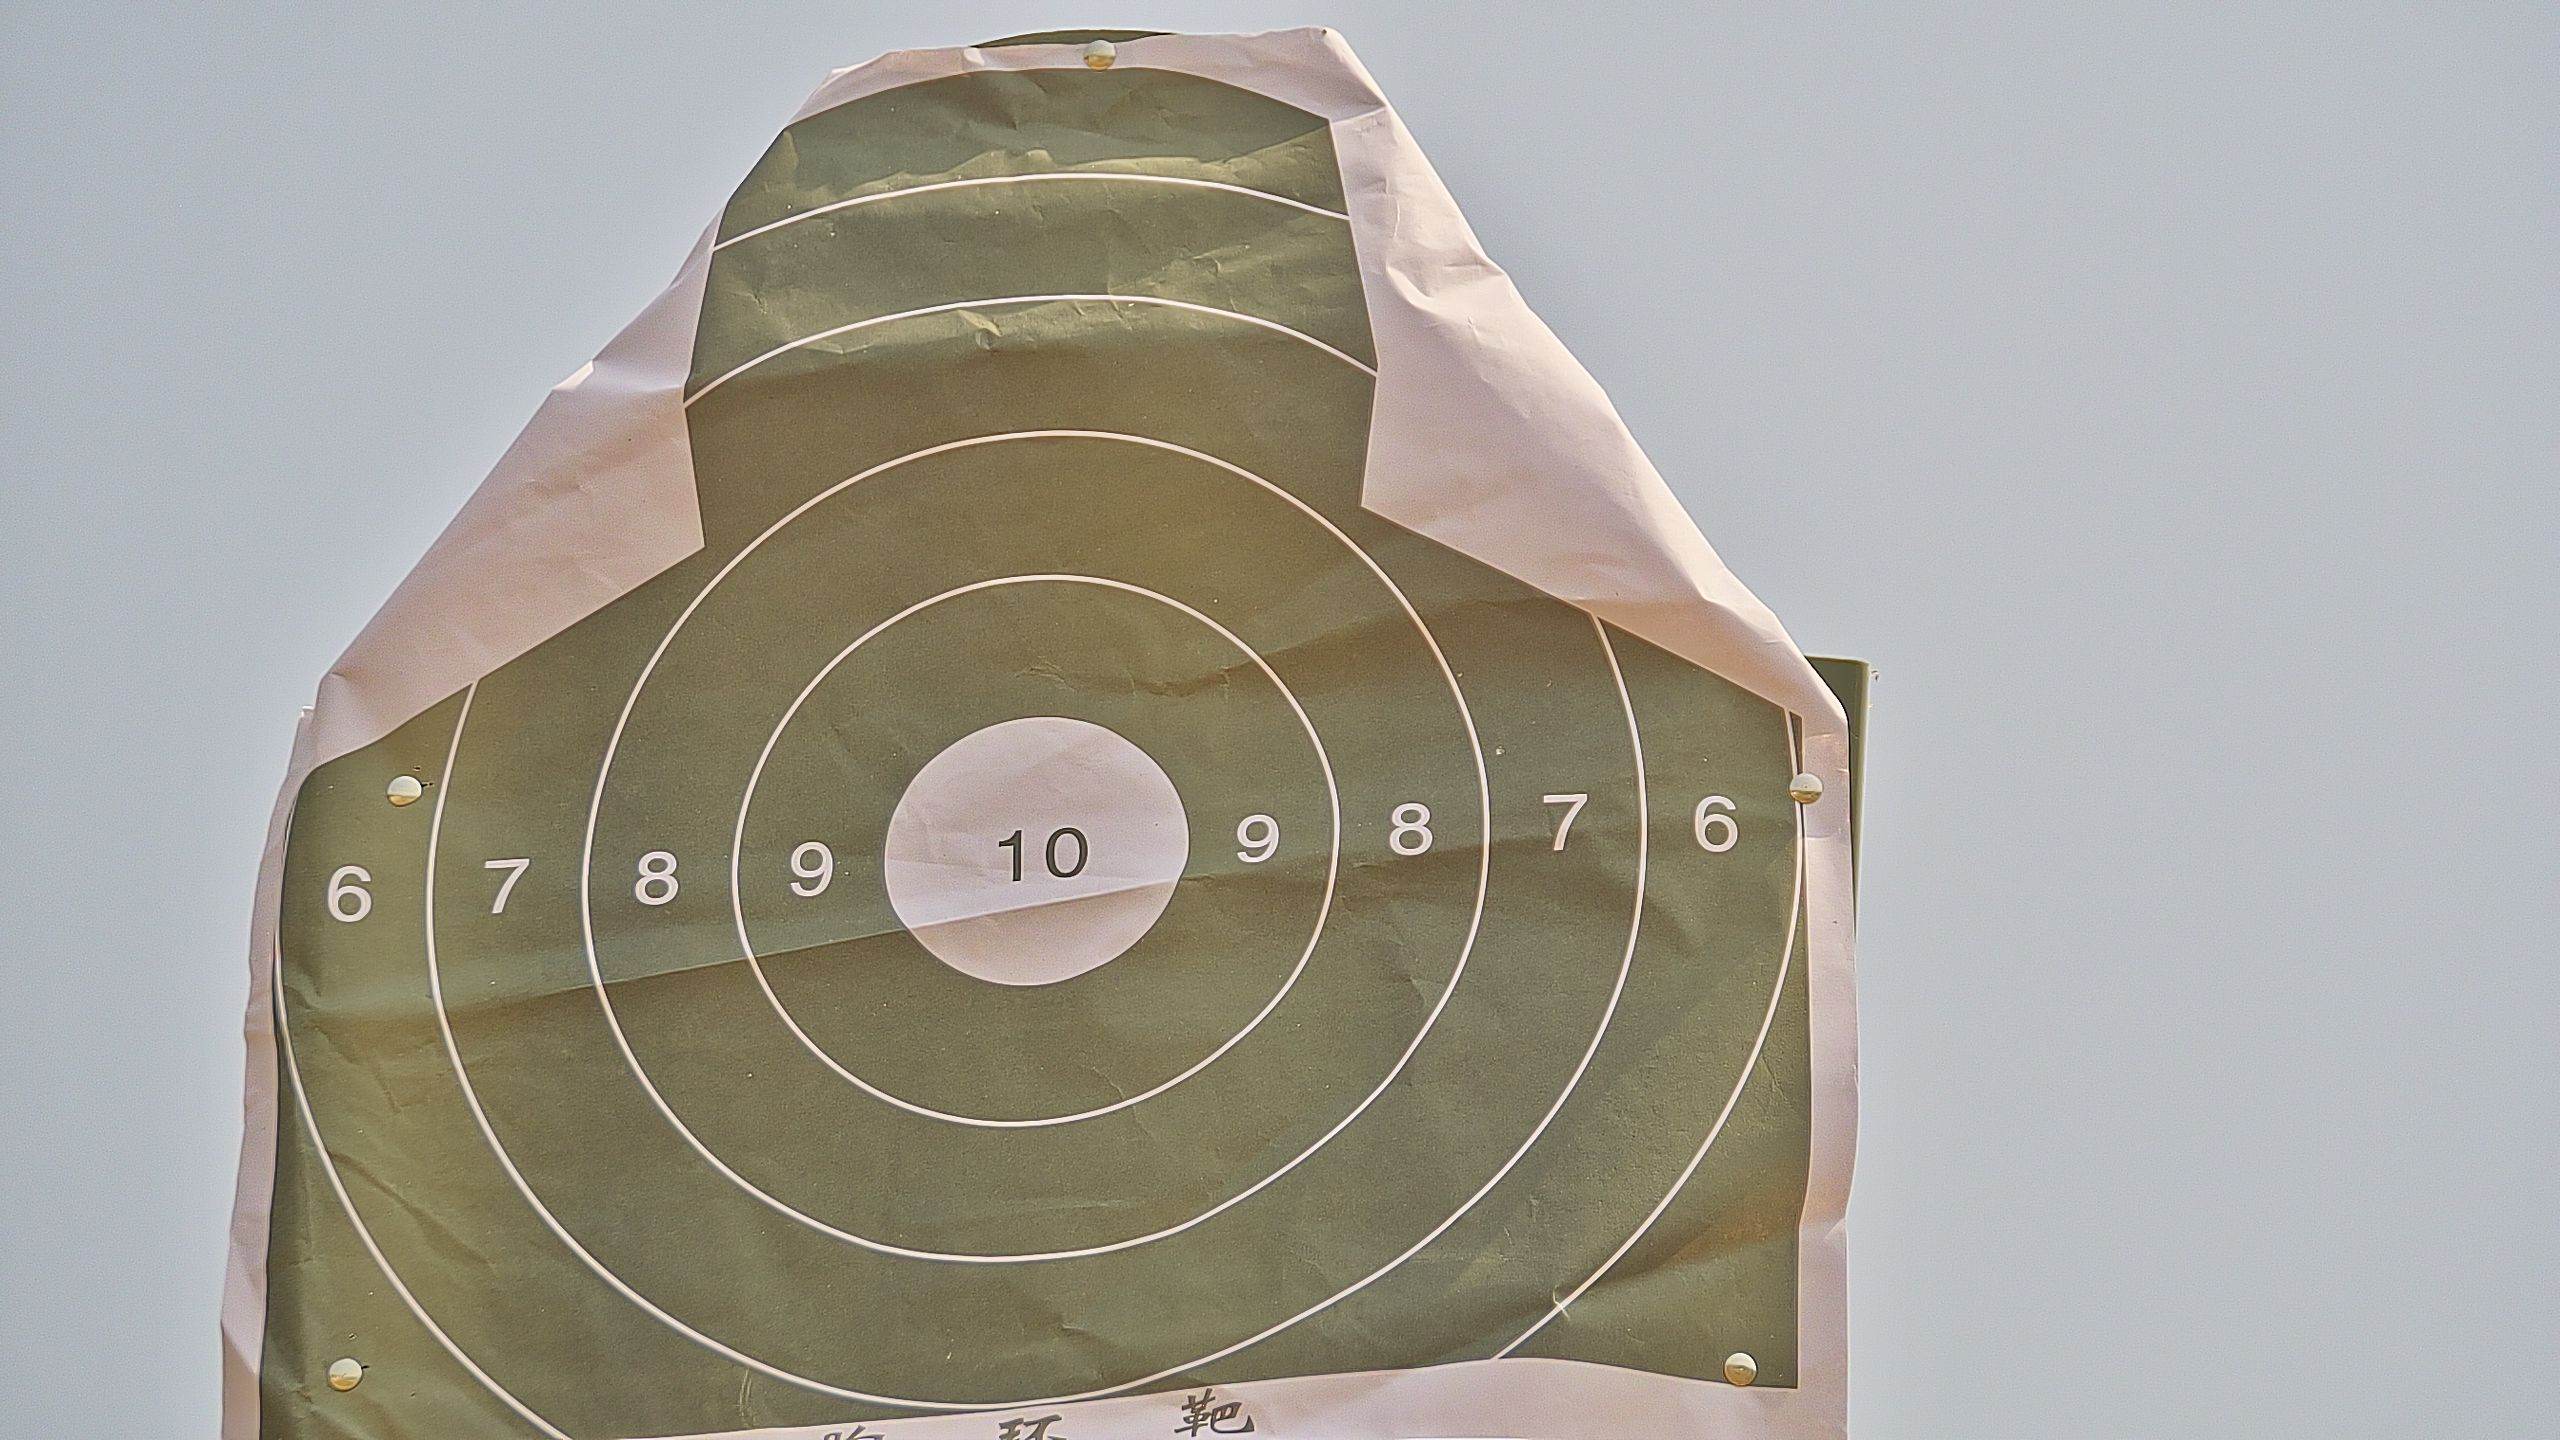kernel: (1034, 856, 1037, 862)
target: (260, 74, 1816, 1436)
ten: (877, 710, 1190, 988)
